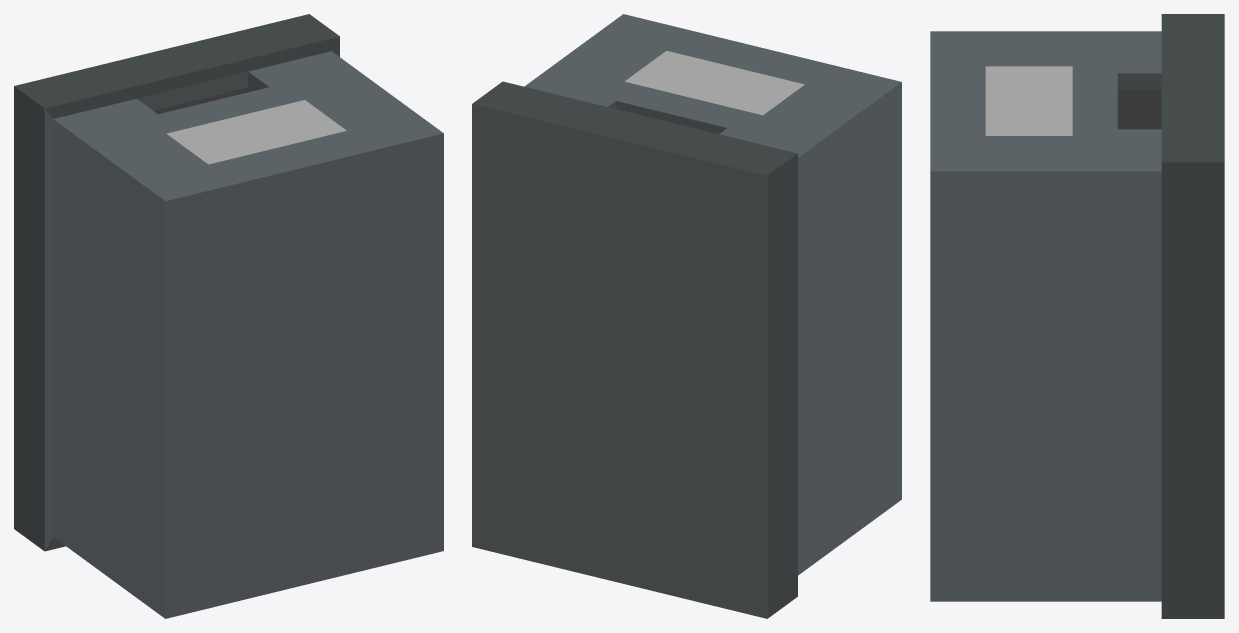
File: FileBox2.glb
3 views of the same model, side by side, from view 1: azimuth 30°, elevation 25°; view 2: azimuth 150°, elevation 25°; view 3: azimuth 270°, elevation 25° (orthographic). The views are drawn at different scales.
Visible parts, largest first — view 1: SO_FileBox_02; view 2: SO_FileBox_02; view 3: SO_FileBox_02.
Part boxes in pixels (<box>): SO_FileBox_02: <box>14,14,443,618</box>; SO_FileBox_02: <box>472,14,901,618</box>; SO_FileBox_02: <box>930,14,1224,618</box>.
Bounding box in the file's own units: 0.6635 × 0.9511 × 0.5562.
Materials: 1 (1 with a texture image).
